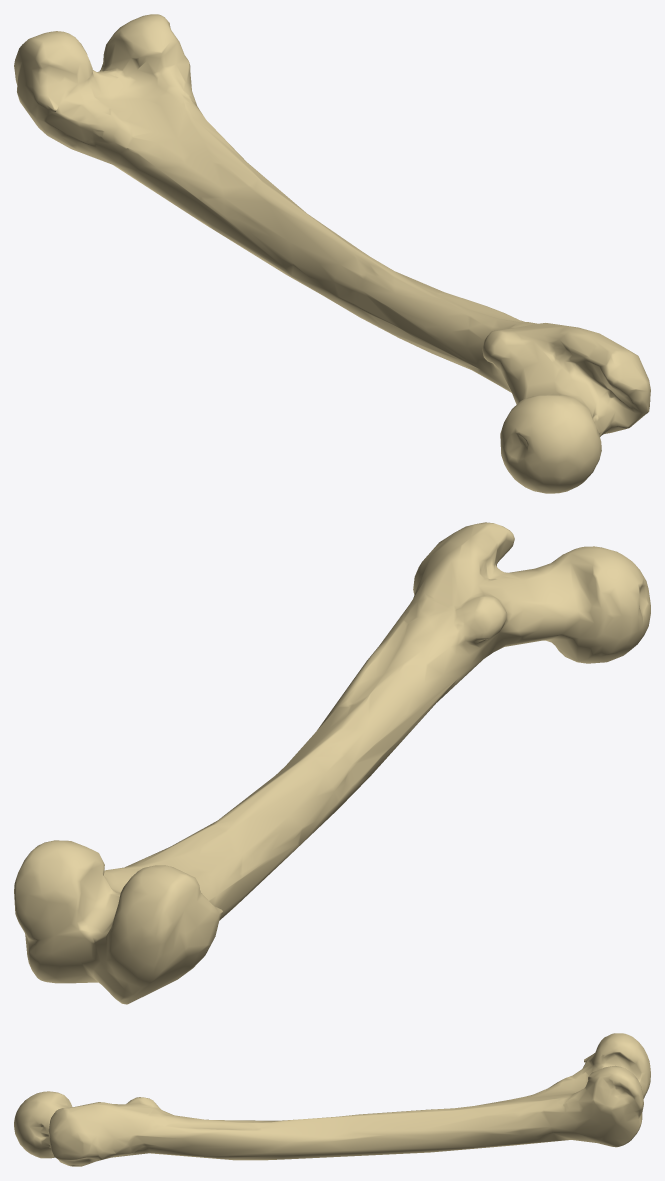
The picture shows the model from 3 angles, top to bottom: view 1: azimuth 30°, elevation 25°; view 2: azimuth 150°, elevation 25°; view 3: azimuth 270°, elevation 25°; orthographic projection. The views are drawn at different scales.
Visible parts, largest first — view 1: 左侧股骨; view 2: 左侧股骨; view 3: 左侧股骨.
Part boxes in pixels (x1,y1,x2,y2): 左侧股骨: (14,14,650,493); 左侧股骨: (14,522,650,1004); 左侧股骨: (14,1033,650,1166).
Bounding box in the file's own units: 0.1718 × 0.1151 × 0.6696.
